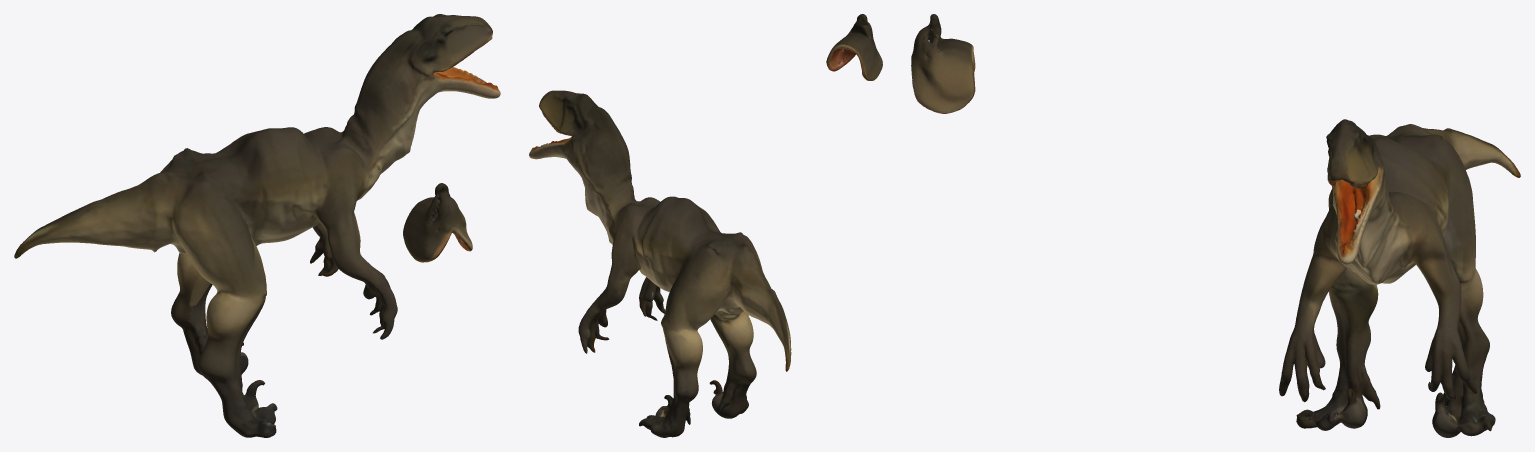
Rendered from 554b0174-7627-4b6f-b283-f0ff4c3da8df_pbr.glb.
3 renders of one model, left to right at view 1: azimuth 30°, elevation 25°; view 2: azimuth 150°, elevation 25°; view 3: azimuth 270°, elevation 25°, orthographic. The views are drawn at different scales.
Parts seen in each view (by area): view 1: tripo_node_554b0174-7627-4b6f-b283-f0ff4c3da8df; view 2: tripo_node_554b0174-7627-4b6f-b283-f0ff4c3da8df; view 3: tripo_node_554b0174-7627-4b6f-b283-f0ff4c3da8df.
Part boxes in pixels (x1,y1,x2,y2): tripo_node_554b0174-7627-4b6f-b283-f0ff4c3da8df: (14, 14, 500, 437); tripo_node_554b0174-7627-4b6f-b283-f0ff4c3da8df: (529, 14, 882, 437); tripo_node_554b0174-7627-4b6f-b283-f0ff4c3da8df: (911, 14, 1520, 437).
Bounding box in the file's own units: 0.865 × 0.7628 × 1.
1 material, 1 textured.
